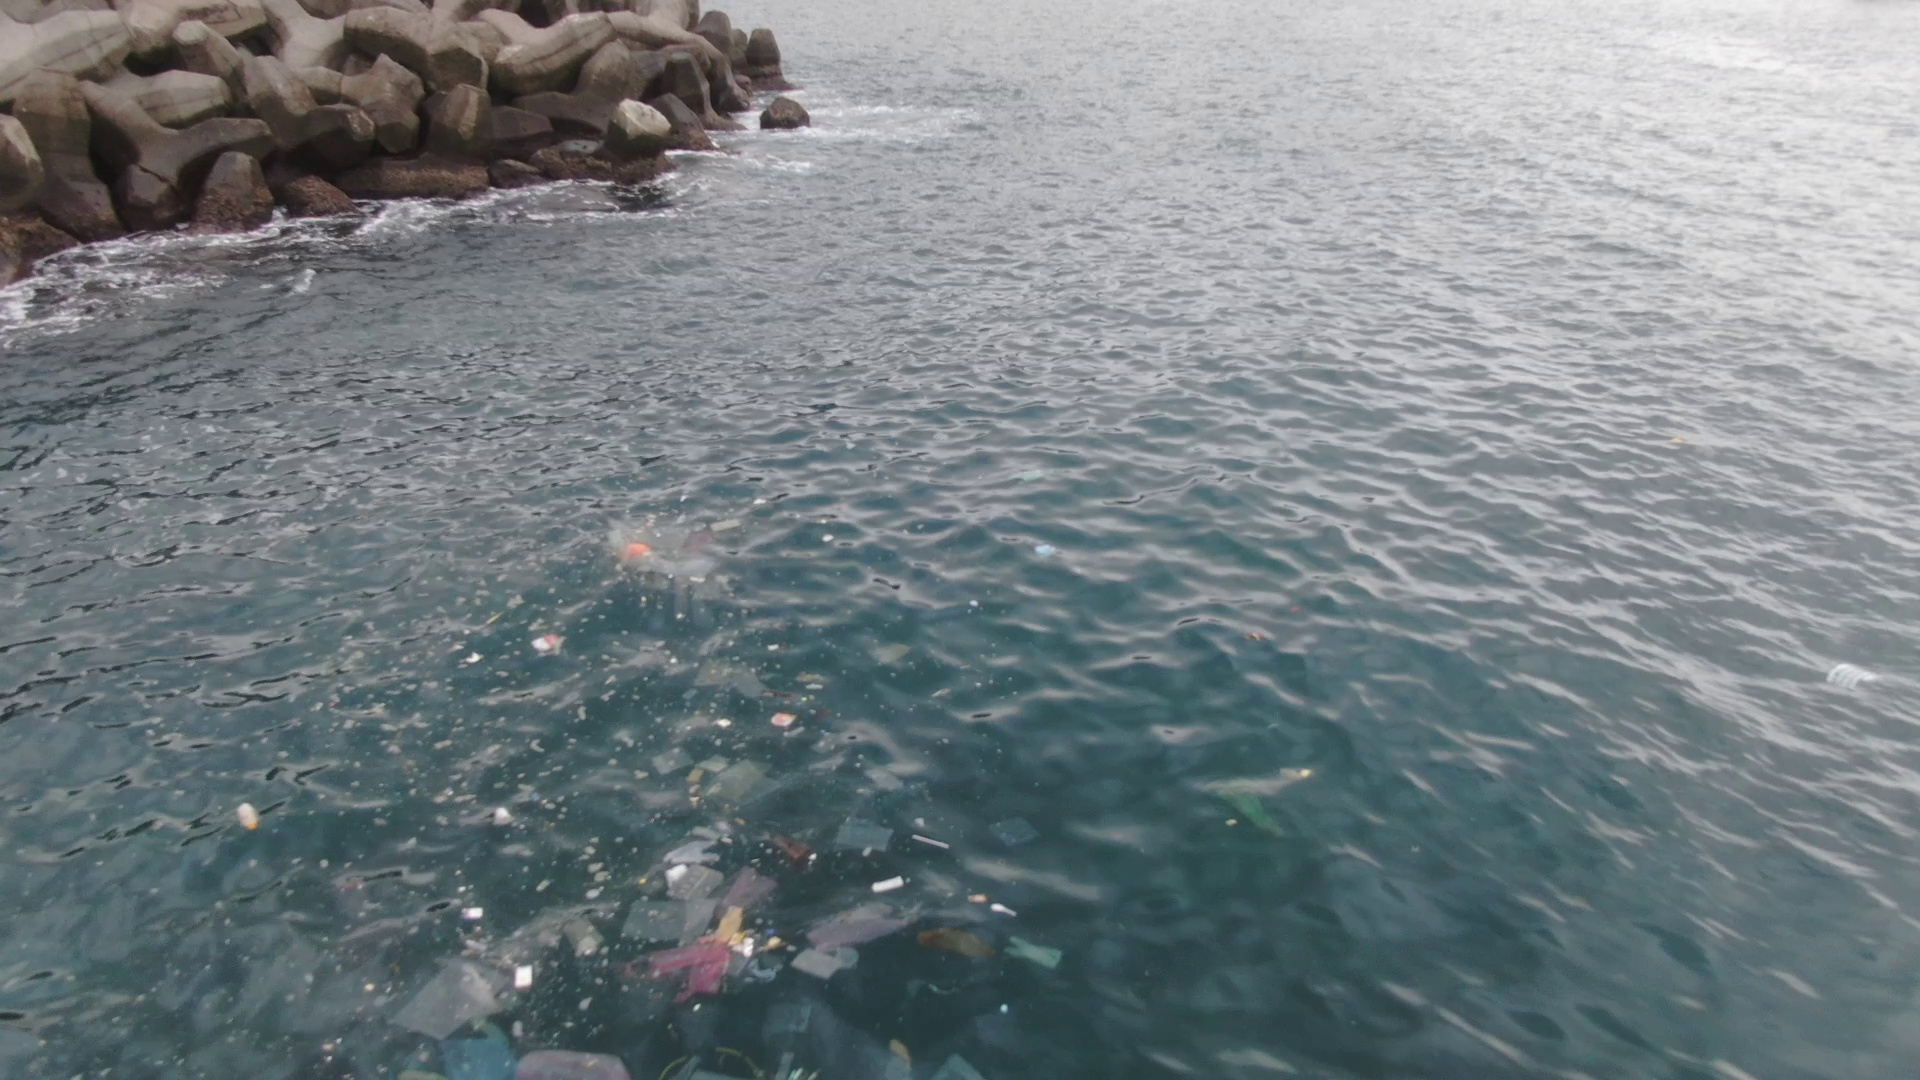garbage: (218, 483, 1084, 1076), (1820, 649, 1884, 702)
